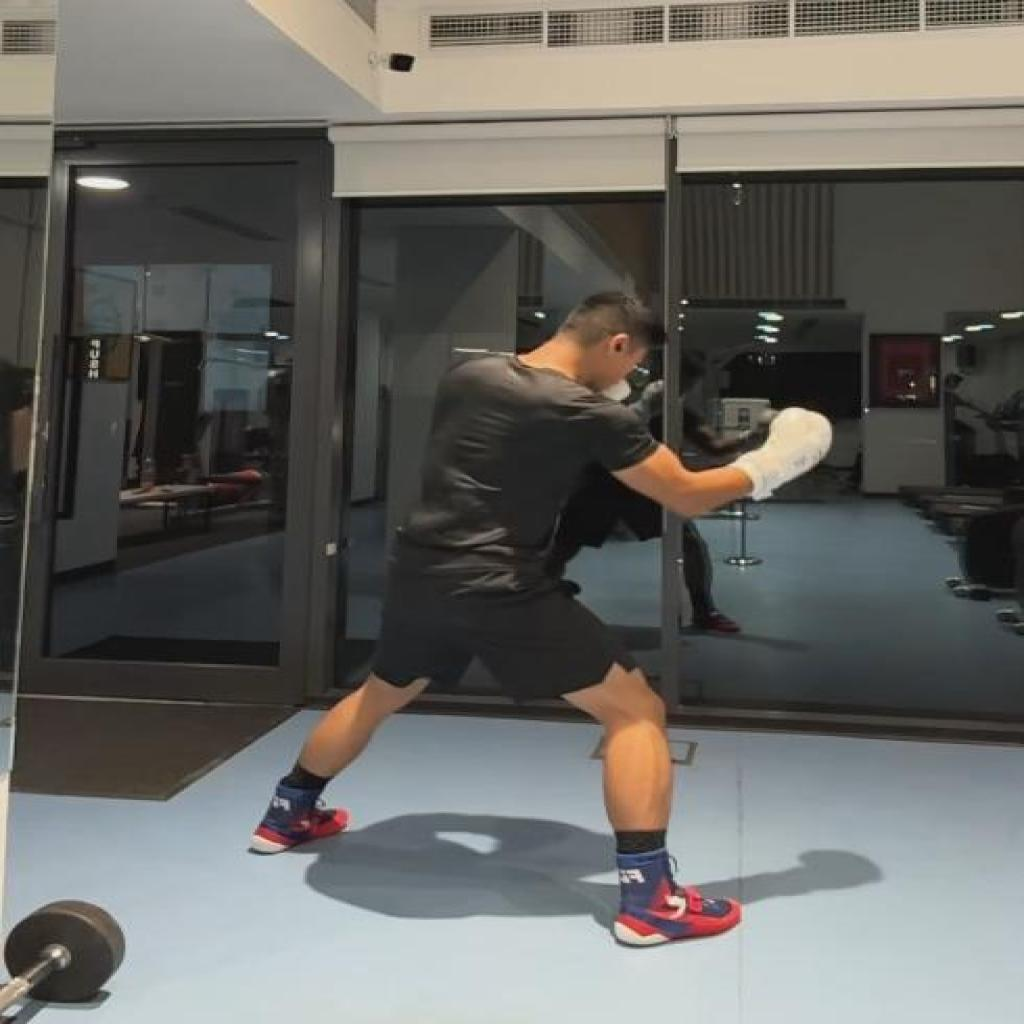uppercut: (251, 286, 832, 949)
